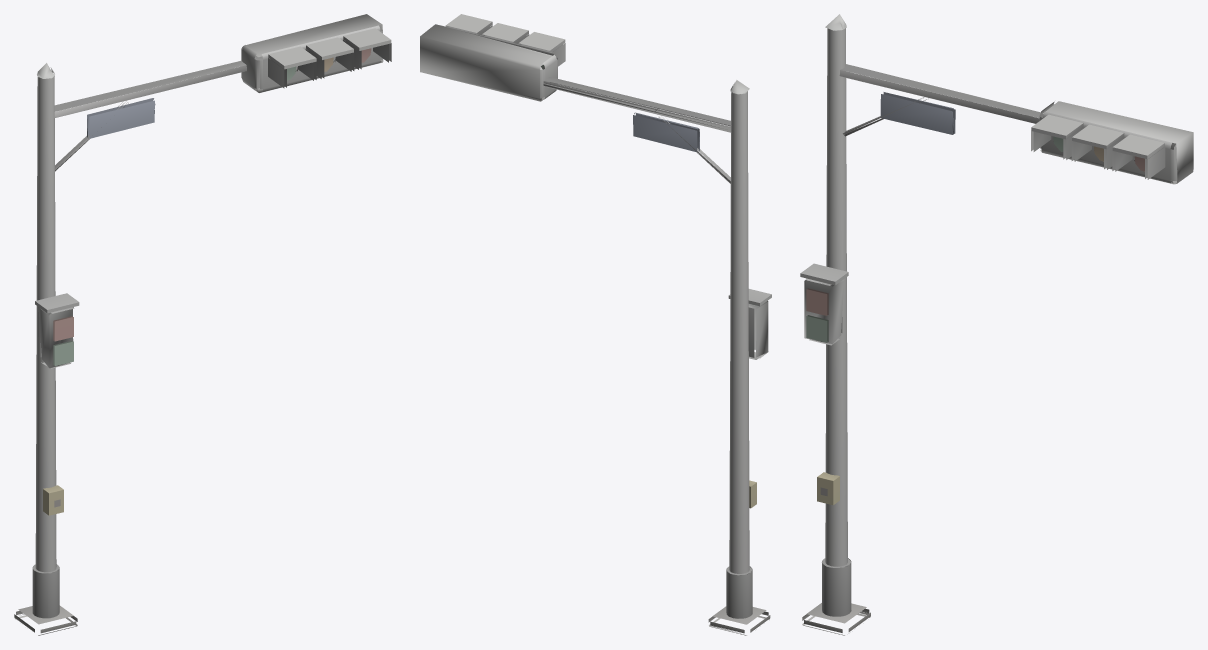
The model's file is signal.lod.glb.
3 views of the same model, side by side, from view 1: azimuth 30°, elevation 25°; view 2: azimuth 150°, elevation 25°; view 3: azimuth 330°, elevation 25° (orthographic). The views are drawn at different scales.
Visible parts, largest first — view 1: signal.001; view 2: signal.001; view 3: signal.001.
Boxes of the visible parts, <box> form: signal.001: <box>14,14,391,635</box>; signal.001: <box>420,14,771,635</box>; signal.001: <box>800,14,1193,635</box>.
Size of the model in its own units: 3.24 by 4.99 by 0.68.
